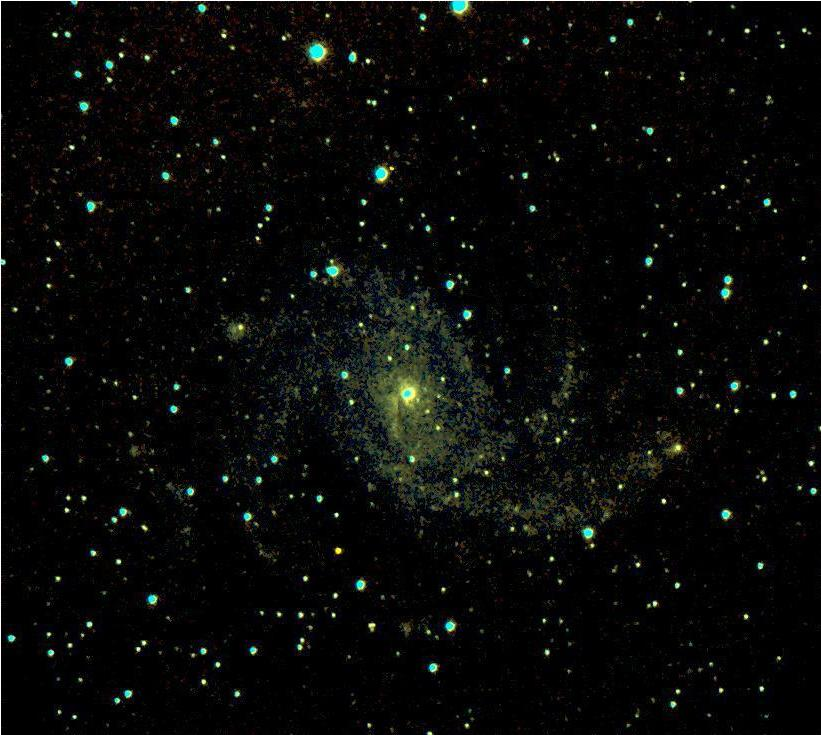star: (321, 528, 351, 558)
